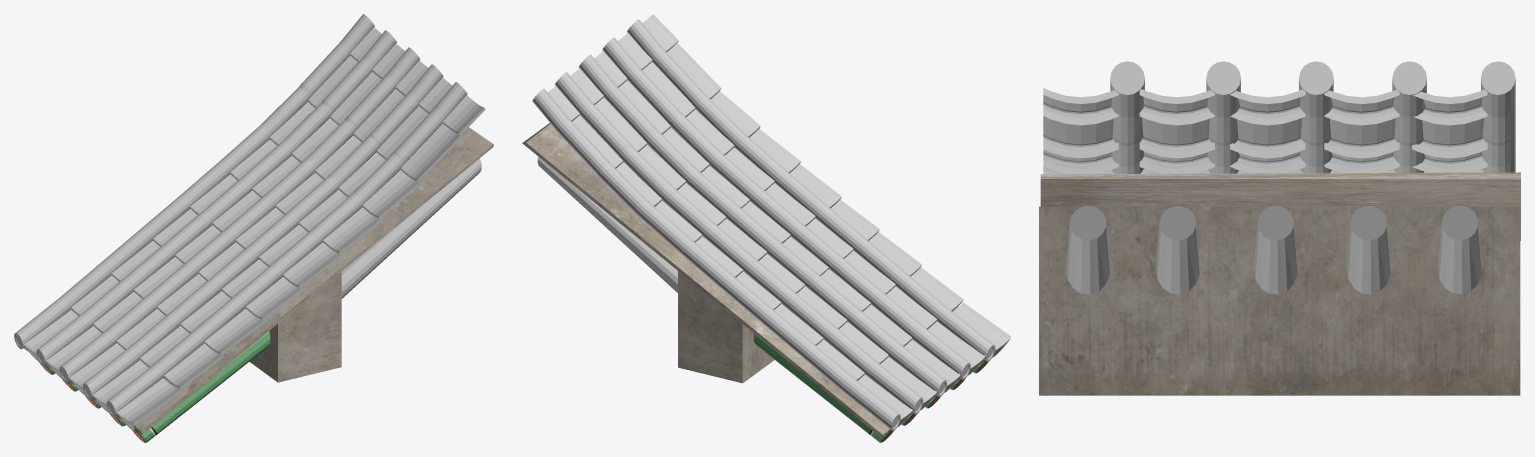
The model's file is SM_Roof_36.fbx.
The picture shows the model from 3 angles, left to right: view 1: azimuth 30°, elevation 25°; view 2: azimuth 150°, elevation 25°; view 3: azimuth 270°, elevation 25°; orthographic projection. The views are drawn at different scales.
Visible parts, largest first — view 1: SM_Roof_36; view 2: SM_Roof_36; view 3: SM_Roof_36.
Boxes of the visible parts, x1=… form: SM_Roof_36: x1=14, y1=14, x2=493, y2=442; SM_Roof_36: x1=522, y1=14, x2=1010, y2=442; SM_Roof_36: x1=1039, y1=61, x2=1520, y2=395.
Bounding box in the file's own units: 366 × 211 × 264.
